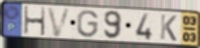4: (134, 12, 154, 41)
9: (103, 10, 123, 41)
G: (76, 10, 99, 39)
H: (23, 5, 46, 37)
K: (159, 13, 178, 43)
V: (46, 7, 73, 38)
